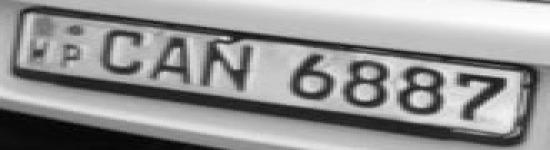6: (273, 50, 339, 103)
7: (454, 71, 510, 127)
8: (390, 61, 453, 118), (338, 57, 390, 110)
A: (150, 31, 196, 87)
C: (96, 26, 150, 78)
N: (194, 37, 261, 94)
P: (54, 42, 90, 73)
W: (25, 40, 57, 65)
